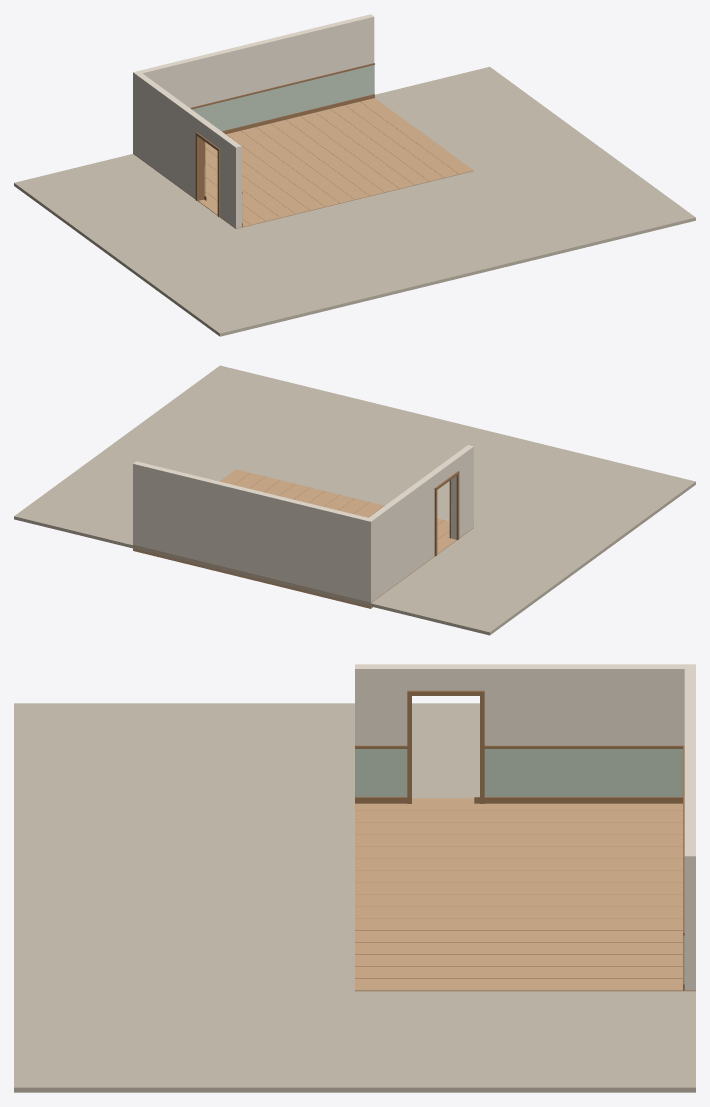
File: Casilla.fbx
The picture shows the model from 3 angles, top to bottom: view 1: azimuth 30°, elevation 25°; view 2: azimuth 150°, elevation 25°; view 3: azimuth 270°, elevation 25°; orthographic projection. The views are drawn at different scales.
Parts seen in each view (by area): view 1: Patio, Piso, Pared_Fondo, Pared_Izquierda; view 2: Patio, Pared_Fondo, Pared_Izquierda, Piso; view 3: Patio, Piso, Pared_Izquierda, Pared_Fondo.
Part boxes in pixels (x1,y1,x2,y2): Patio: (14, 66, 695, 336); Piso: (133, 98, 473, 228); Pared_Fondo: (133, 14, 374, 155); Pared_Izquierda: (133, 71, 242, 228); Patio: (14, 365, 695, 635); Pared_Fondo: (133, 461, 374, 602); Pared_Izquierda: (365, 445, 473, 599); Piso: (133, 469, 473, 608); Patio: (14, 703, 695, 1092); Piso: (355, 798, 695, 991); Pared_Izquierda: (355, 664, 695, 803); Pared_Fondo: (683, 664, 695, 990).
Size of the model in its own units: 16 by 2.8 by 12.
